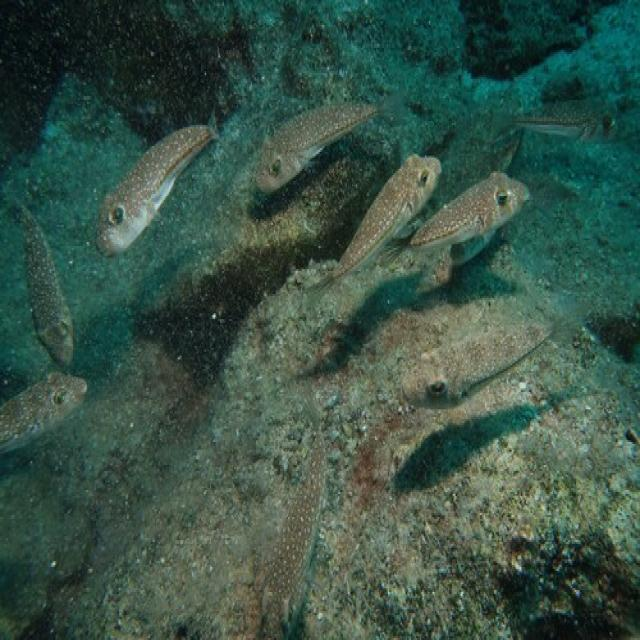Balik: (315, 154, 441, 288), (96, 125, 216, 255), (259, 431, 326, 639), (402, 323, 551, 407), (255, 104, 380, 194), (410, 172, 529, 247), (20, 208, 74, 365), (0, 373, 87, 449), (514, 100, 615, 140)
